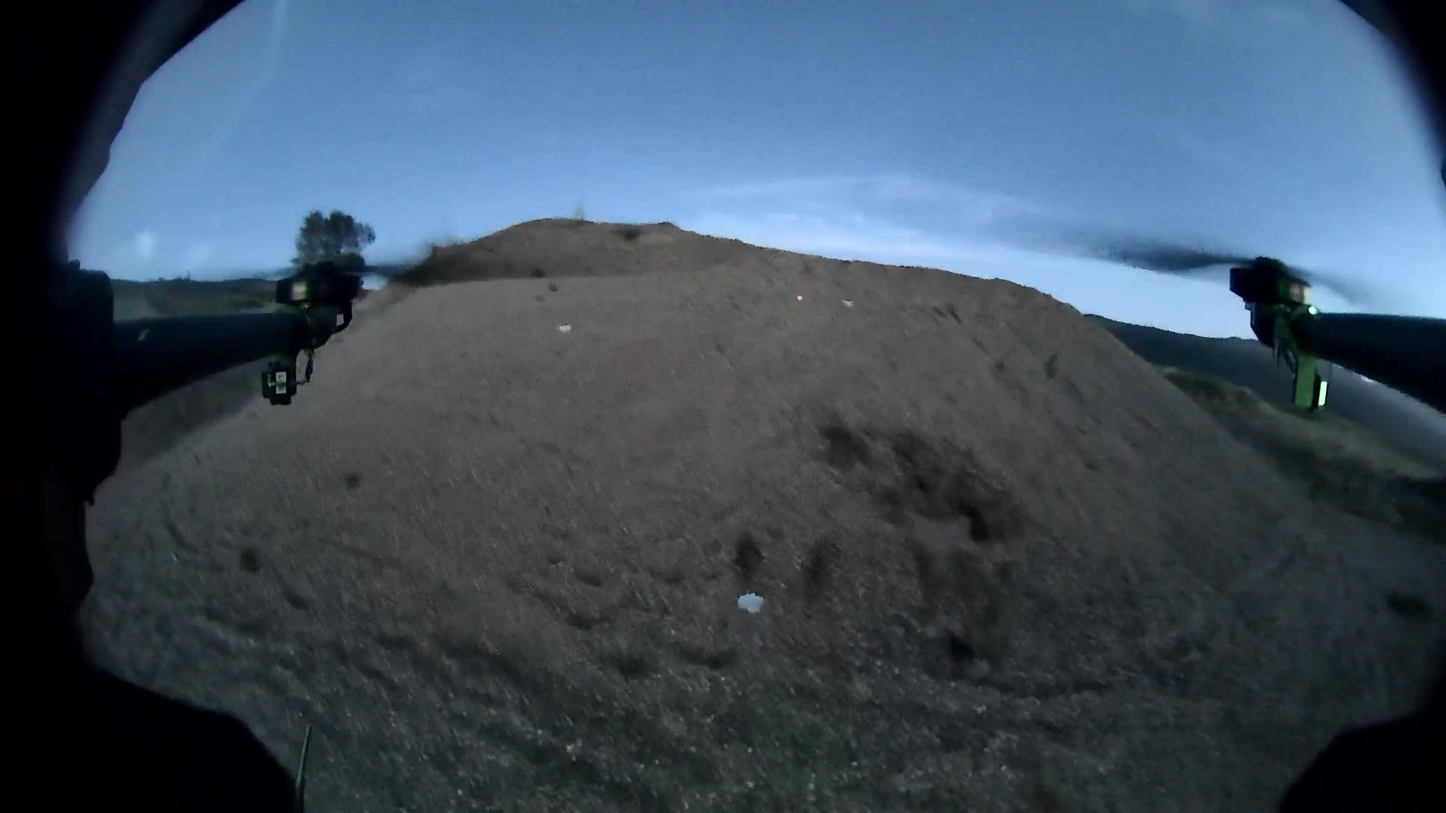Target: (736, 589, 766, 616), (558, 323, 573, 335)
